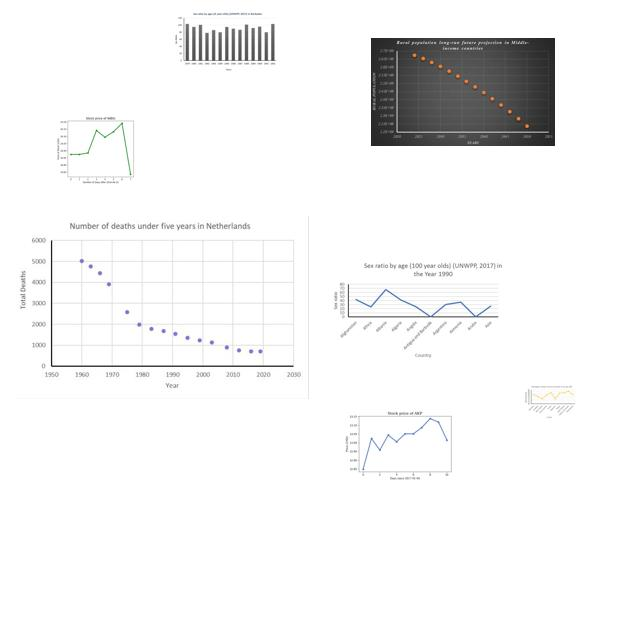Graph: (13, 216, 309, 399), (371, 38, 555, 146), (328, 259, 503, 360), (344, 399, 463, 488), (51, 112, 148, 185), (173, 11, 279, 73), (524, 385, 576, 419)
